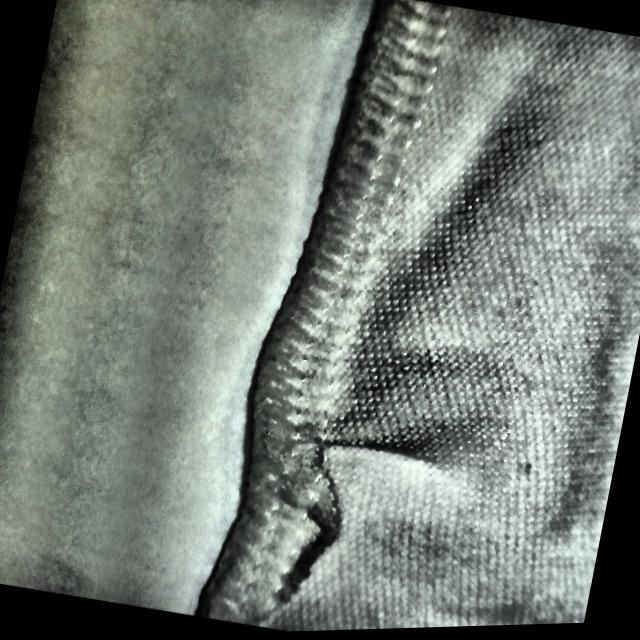seam: (202, 367, 449, 630)
